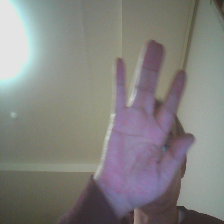hand: (104, 35, 193, 212)
